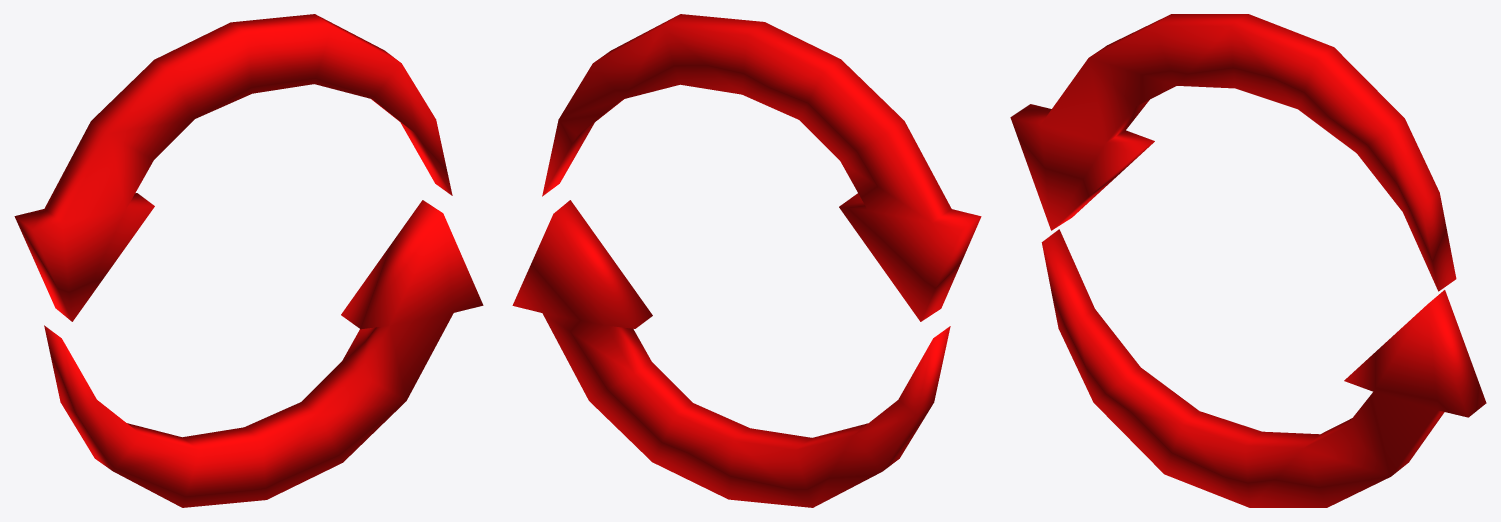
The model's file is Changer_Rot_Gun.fbx.
The picture shows the model from 3 angles, left to right: view 1: azimuth 30°, elevation 25°; view 2: azimuth 150°, elevation 25°; view 3: azimuth 330°, elevation 25°; orthographic projection.
Parts seen in each view (by area): view 1: Changer_Rot_Gun; view 2: Changer_Rot_Gun; view 3: Changer_Rot_Gun.
Boxes of the visible parts, x1=… form: Changer_Rot_Gun: x1=14, y1=14, x2=483, y2=507; Changer_Rot_Gun: x1=512, y1=14, x2=981, y2=507; Changer_Rot_Gun: x1=1010, y1=14, x2=1486, y2=507.
Size of the model in its own units: 143 by 143 by 10.36.
1 material, 1 textured.
